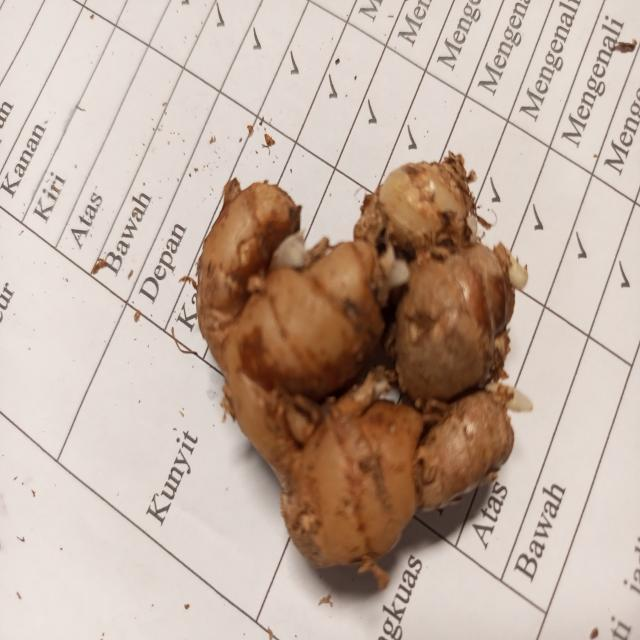ginger: (202, 166, 508, 552)
